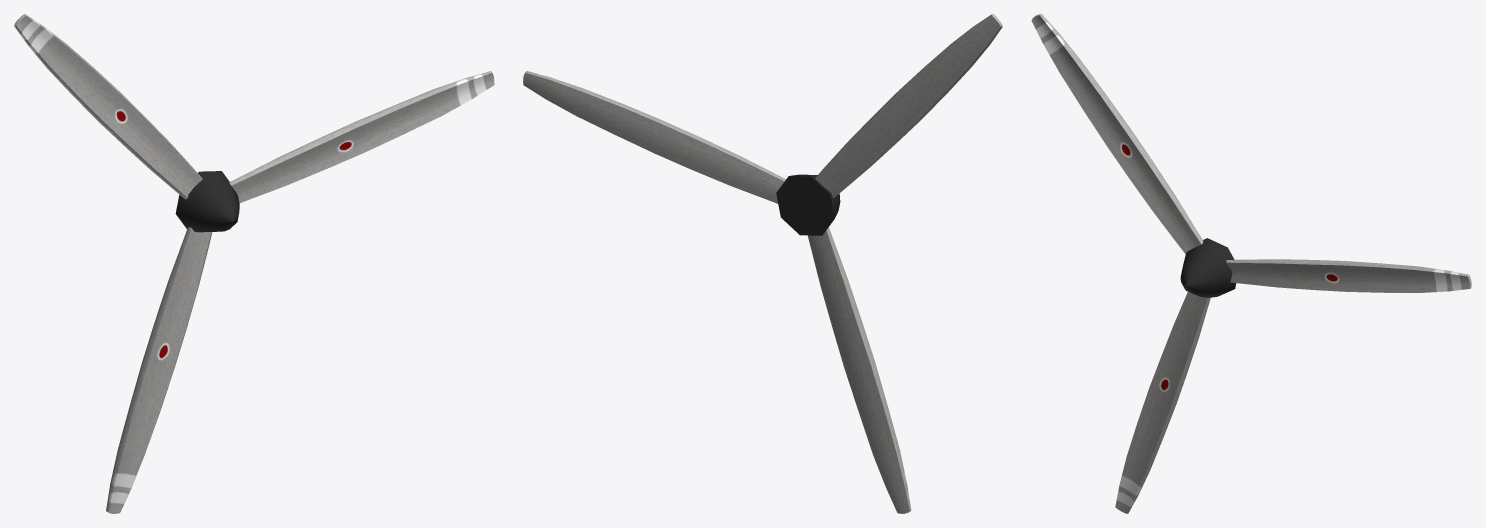
Rendered from threeBladedPropeller.glb.
3 renders of one model, left to right at view 1: azimuth 30°, elevation 25°; view 2: azimuth 150°, elevation 25°; view 3: azimuth 330°, elevation 25°, orthographic. The views are drawn at different scales.
Visible parts, largest first — view 1: blade3, blade1, blade2, center; view 2: blade1, blade3, blade2, center; view 3: blade2, blade1, blade3, center.
Part boxes in pixels (<box>): blade3: <box>106,227,212,513</box>; blade1: <box>229,71,494,202</box>; blade2: <box>14,14,202,199</box>; center: <box>175,171,239,232</box>; blade1: <box>523,71,785,203</box>; blade3: <box>807,227,911,513</box>; blade2: <box>815,14,1002,197</box>; center: <box>776,174,840,235</box>; blade2: <box>1031,14,1203,254</box>; blade1: <box>1226,259,1471,292</box>; blade3: <box>1115,292,1210,513</box>; center: <box>1180,238,1236,297</box>.
Size of the model in its own units: 0.1177 by 0.1224 by 0.0122.
2 materials, 2 textured.
